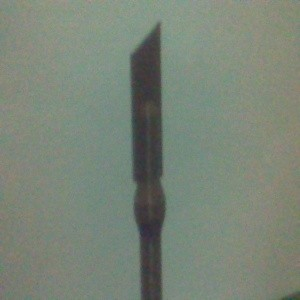cutter: (128, 20, 167, 300)
